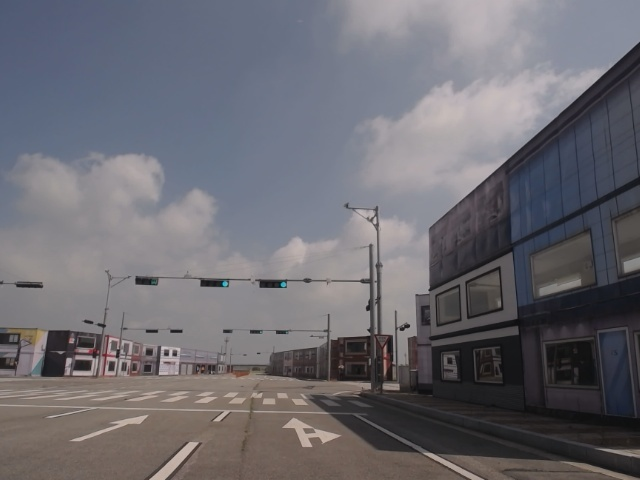straight_green_4: (199, 278, 230, 287), (260, 279, 287, 289)
